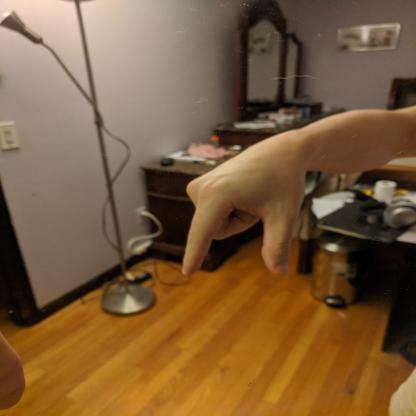Q: (178, 131, 310, 280)
